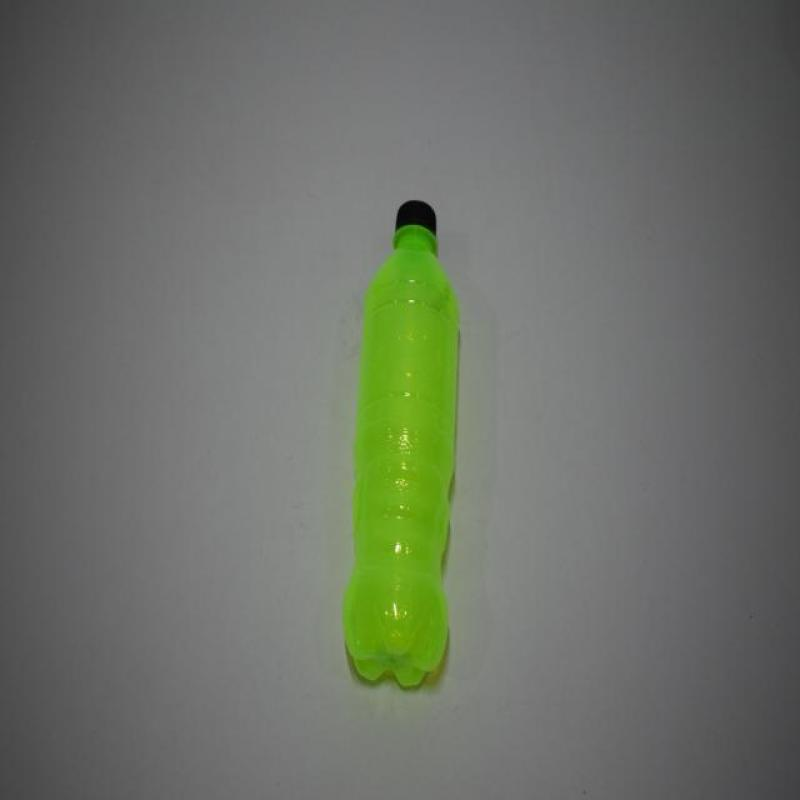botella: (343, 199, 459, 692)
